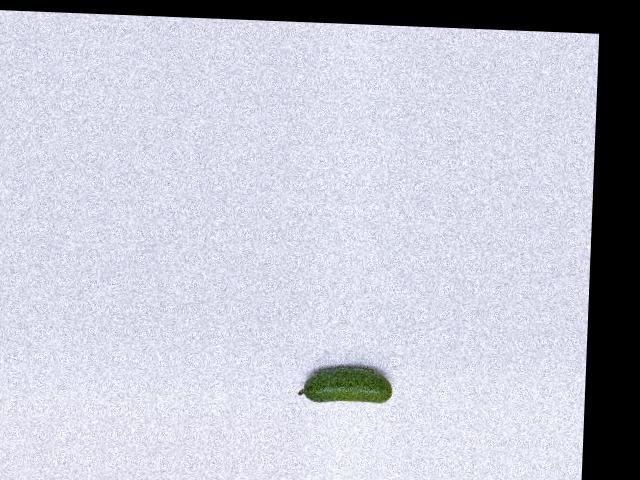cucumber: (298, 365, 393, 404)
